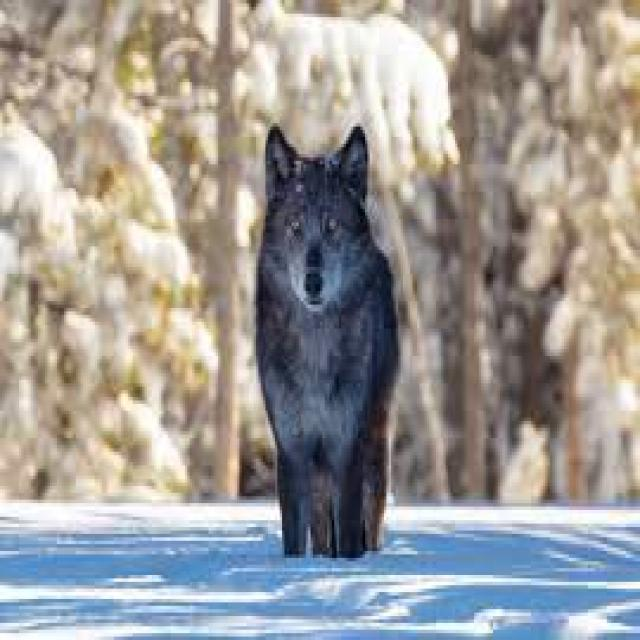wolf: (256, 123, 398, 554)
